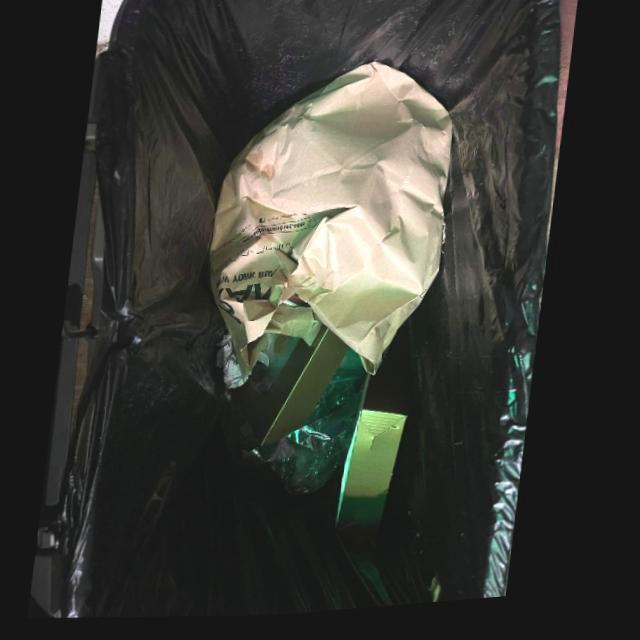cardboard: (265, 329, 353, 450), (342, 414, 412, 552)
paper: (211, 66, 454, 389)
